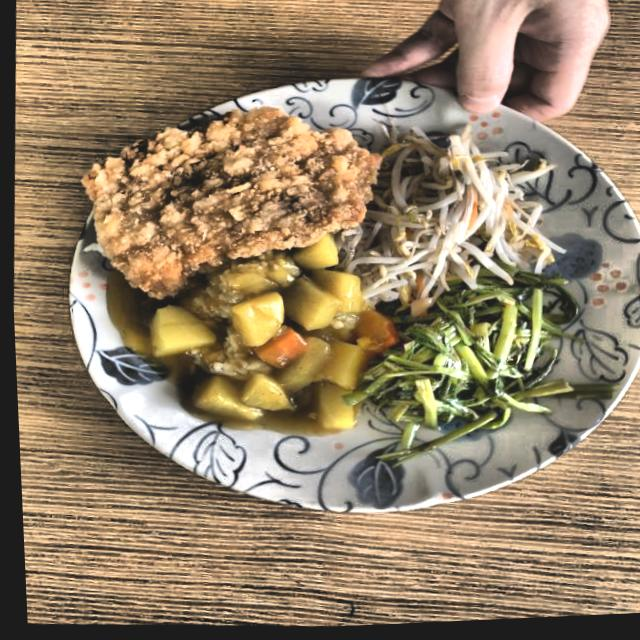Food: (106, 238, 388, 442), (91, 114, 361, 267), (371, 294, 563, 444), (367, 133, 538, 287)
